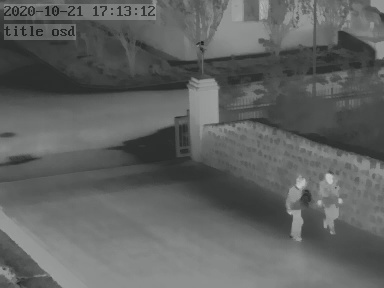person: (285, 175, 307, 242), (318, 172, 342, 233)
